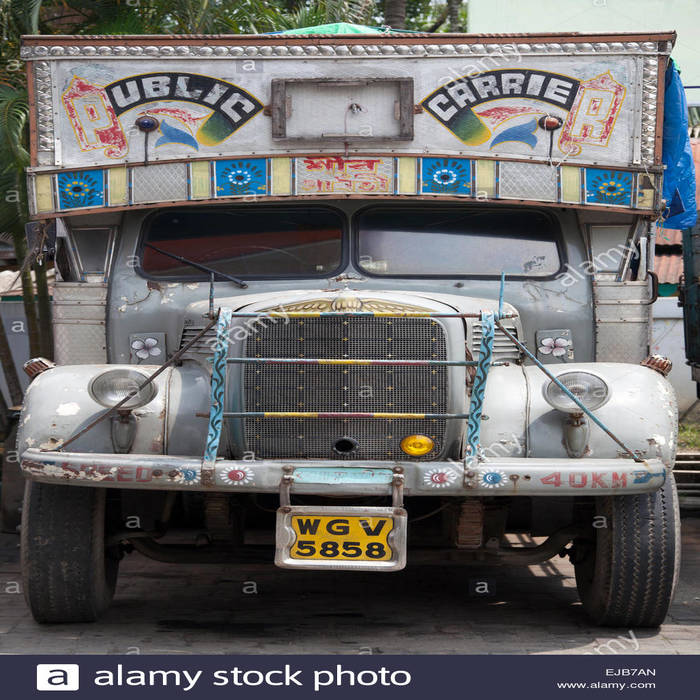n: (276, 510, 402, 564)
